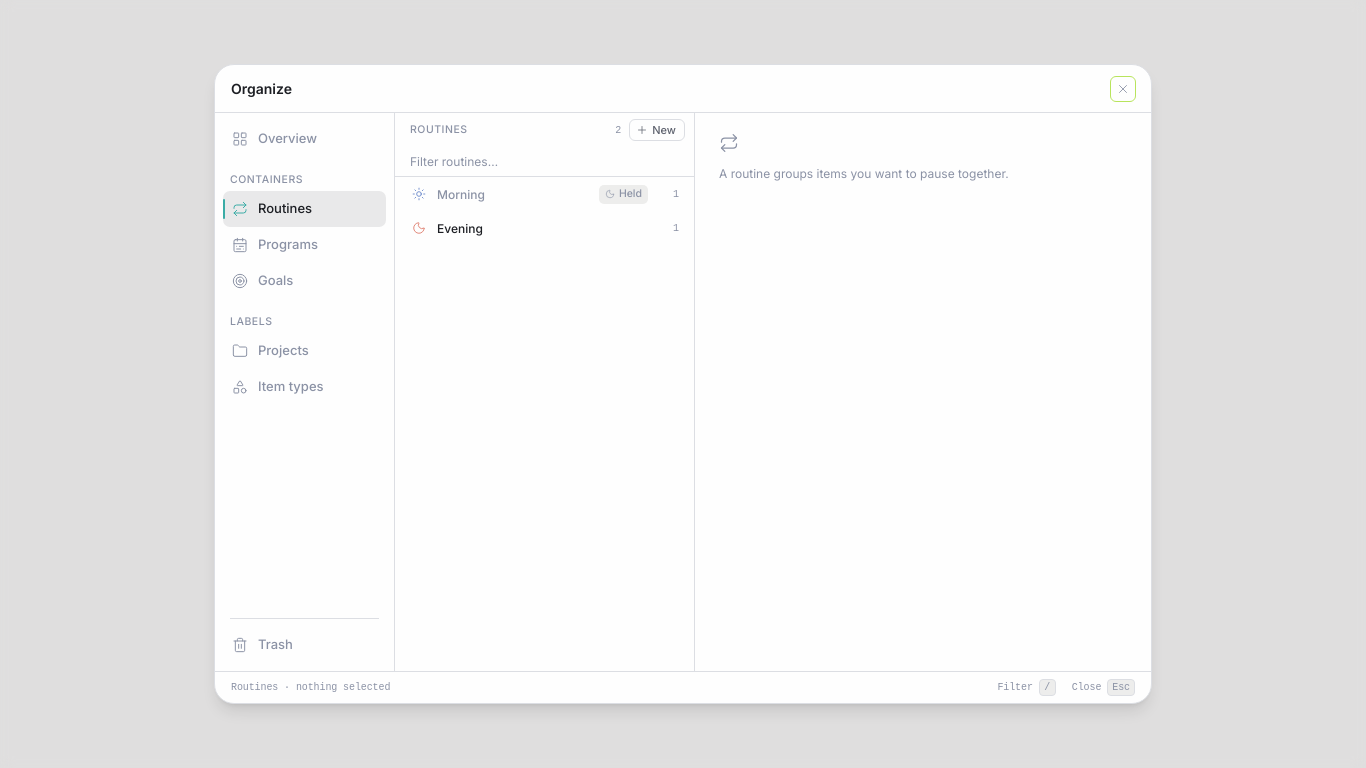
Test: a member the routine is NOT the only path to › says the routine is not carrying them, without claiming they are hidden
Click the button with test id "routine-row" at (461, 194), box [403,177,686,211]
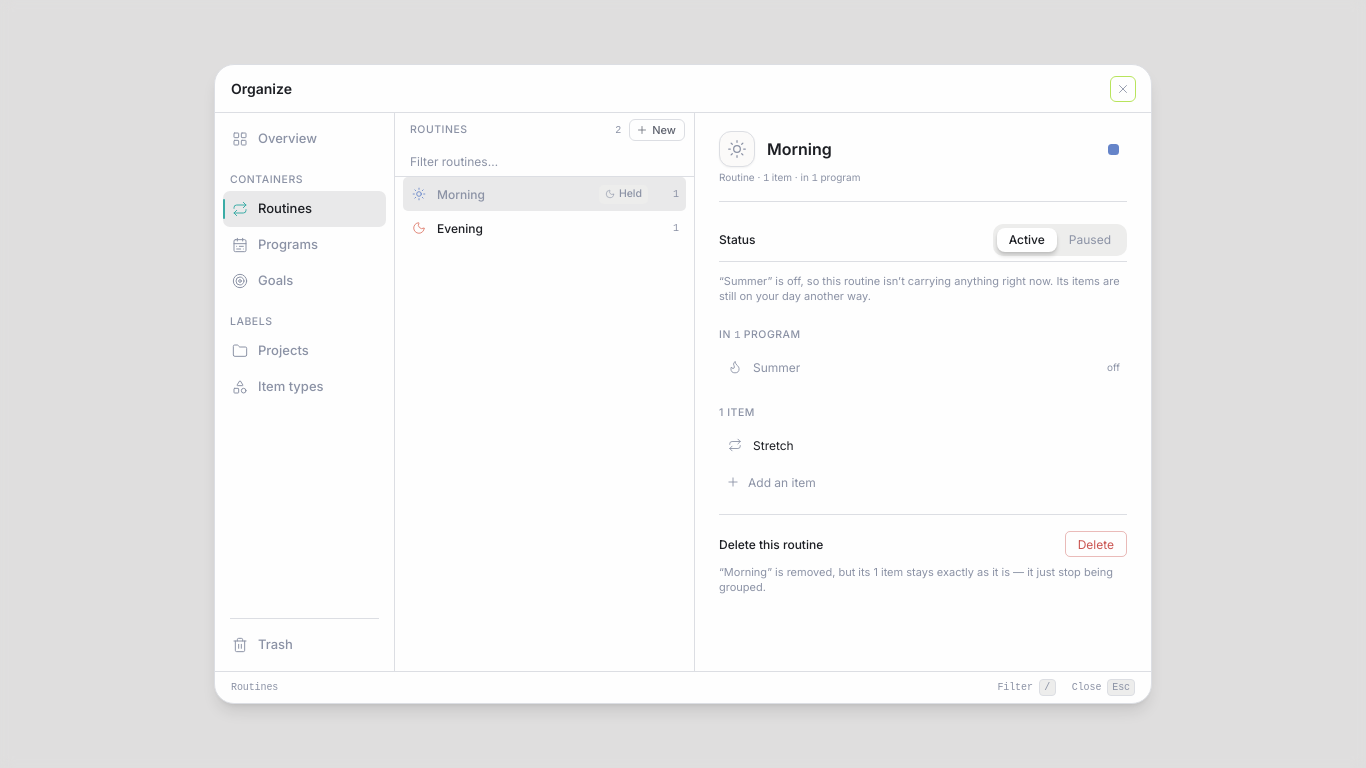
Check: the text with test id "routine-held-note" does not show "hidden", box [719,274,1127,304]
Check: the text with test id "routine-held-note" shows "“Summer” is off", box [719,274,1127,304]
Check: the text with test id "routine-held-note" shows "still on your day", box [719,274,1120,303]
